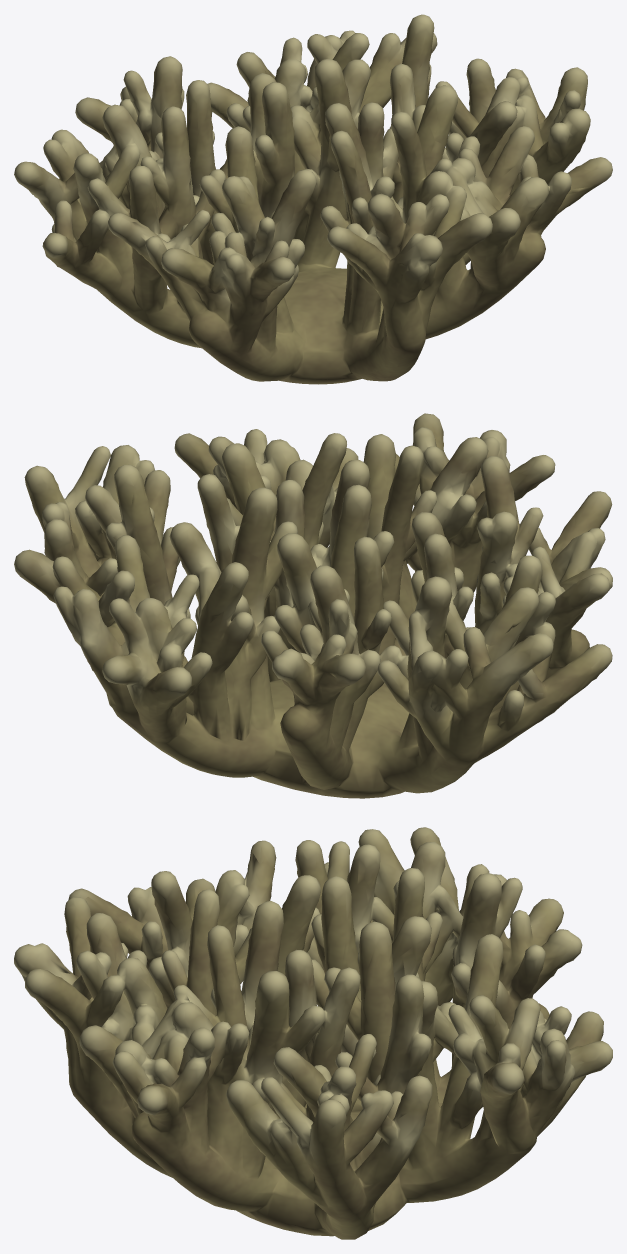
Rendered from branching_v4_cushion_lod1.glb.
3 renders of one model, top to bottom at view 1: azimuth 30°, elevation 25°; view 2: azimuth 150°, elevation 25°; view 3: azimuth 270°, elevation 25°, orthographic. The views are drawn at different scales.
Parts seen in each view (by area): view 1: branching_v4_cushion_LOD1; view 2: branching_v4_cushion_LOD1; view 3: branching_v4_cushion_LOD1.
Boxes of the visible parts, left/top/right/bottom form: branching_v4_cushion_LOD1: left=14, top=14, right=612, bottom=384; branching_v4_cushion_LOD1: left=14, top=413, right=612, bottom=798; branching_v4_cushion_LOD1: left=14, top=827, right=612, bottom=1239.
Bounding box in the file's own units: 0.6497 × 0.3045 × 0.564.
1 material, 1 textured.
